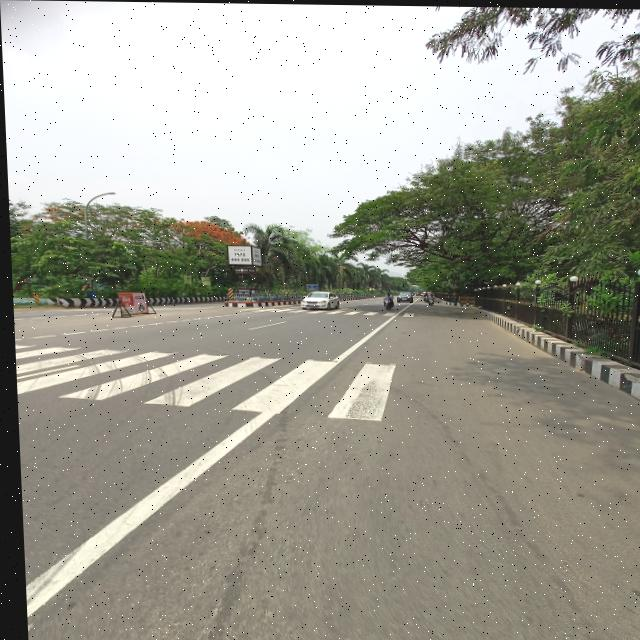bike: (379, 296, 393, 308), (426, 294, 432, 304)
car: (293, 287, 340, 313), (393, 291, 412, 302)
